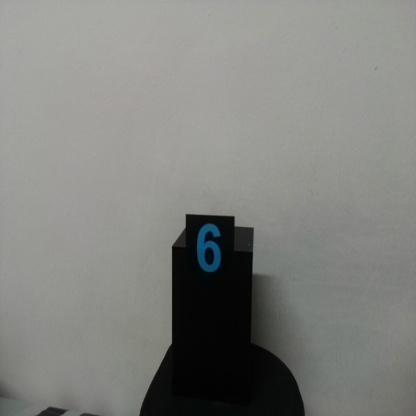id_6: (185, 215, 235, 287)
